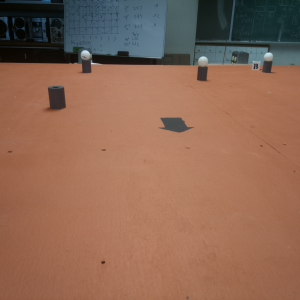blockB: (251, 60, 262, 71)
obstacle: (47, 84, 67, 110), (78, 50, 94, 74), (196, 56, 209, 83), (262, 51, 276, 74)
start: (158, 115, 194, 135)
